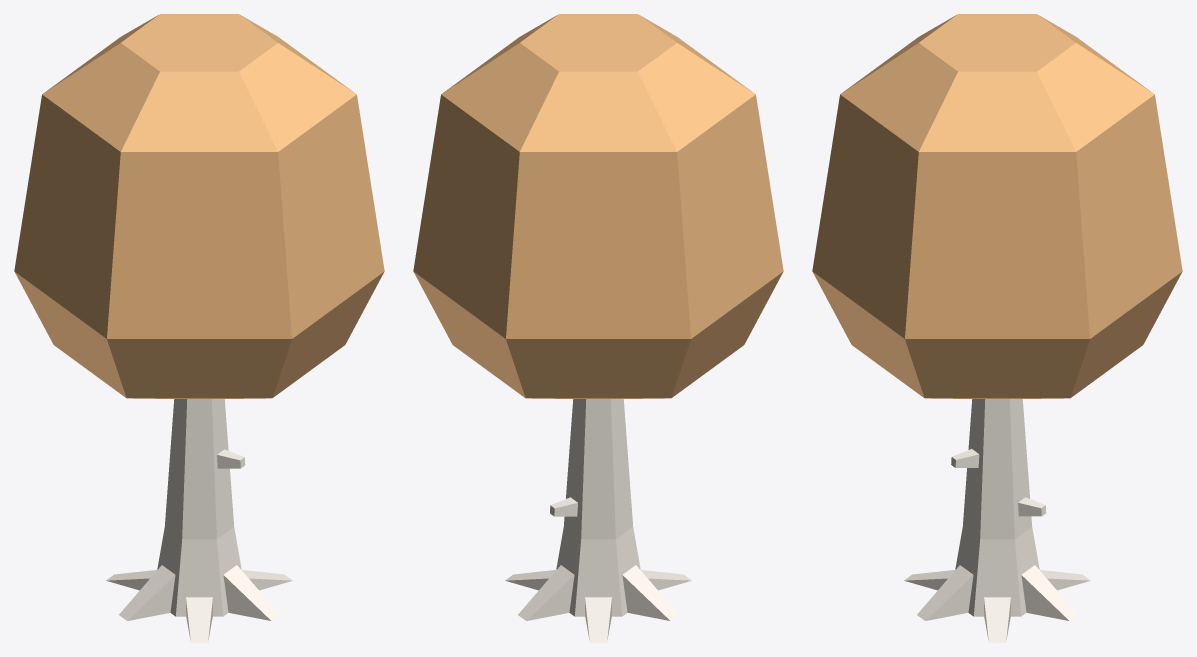
File: tree_oak_fall.gltf
The picture shows the model from 3 angles, left to right: view 1: azimuth 30°, elevation 25°; view 2: azimuth 150°, elevation 25°; view 3: azimuth 270°, elevation 25°; orthographic projection.
Visible parts, largest first — view 1: tree_oak_fall; view 2: tree_oak_fall; view 3: tree_oak_fall.
Part boxes in pixels (x1,y1,x2,y2): tree_oak_fall: [14, 14, 384, 642]; tree_oak_fall: [413, 14, 783, 642]; tree_oak_fall: [812, 14, 1182, 642].
Size of the model in its own units: 0.6406 by 1.23 by 0.7396.
